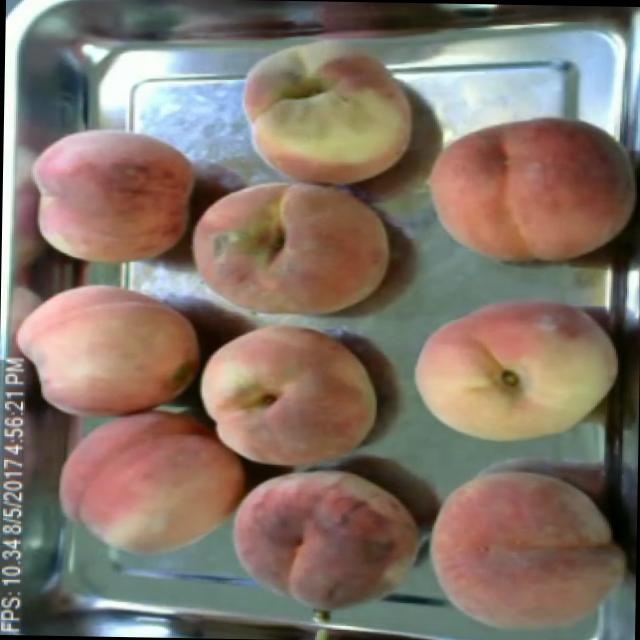Fruit: (407, 448, 636, 640), (396, 278, 632, 464), (213, 456, 444, 632), (416, 100, 640, 278), (177, 166, 408, 322), (45, 404, 258, 566), (187, 308, 396, 471), (227, 27, 430, 194), (16, 114, 212, 272), (10, 274, 212, 424)
